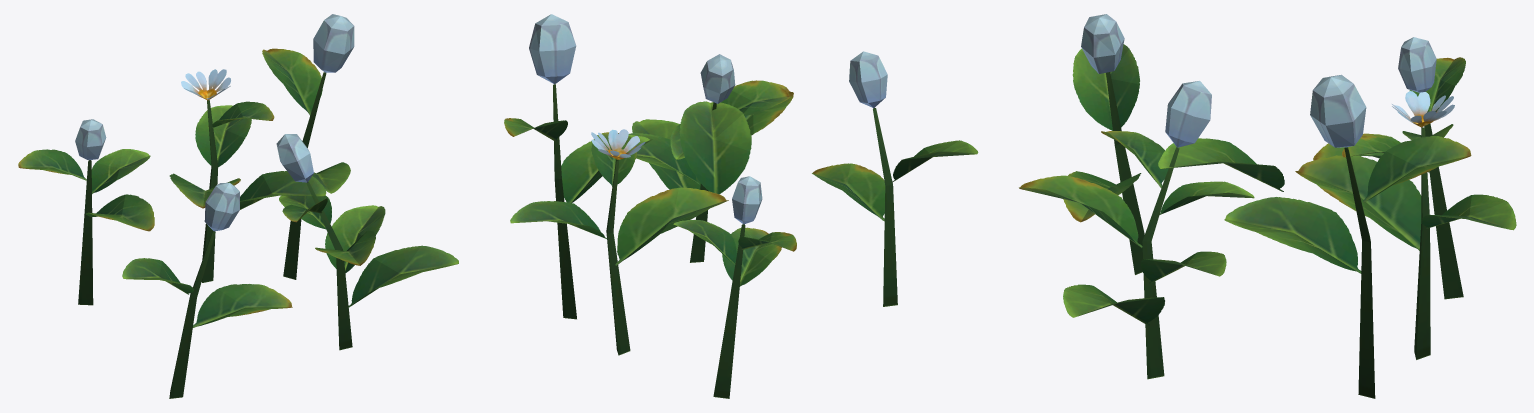
The model's file is P_Flowerchuju_02.obj.
3 views of the same model, side by side, from view 1: azimuth 30°, elevation 25°; view 2: azimuth 150°, elevation 25°; view 3: azimuth 270°, elevation 25° (orthographic). The views are drawn at different scales.
Bounding box in the file's own units: 0.624 × 0.4814 × 0.6338.
1 material, 1 textured.
